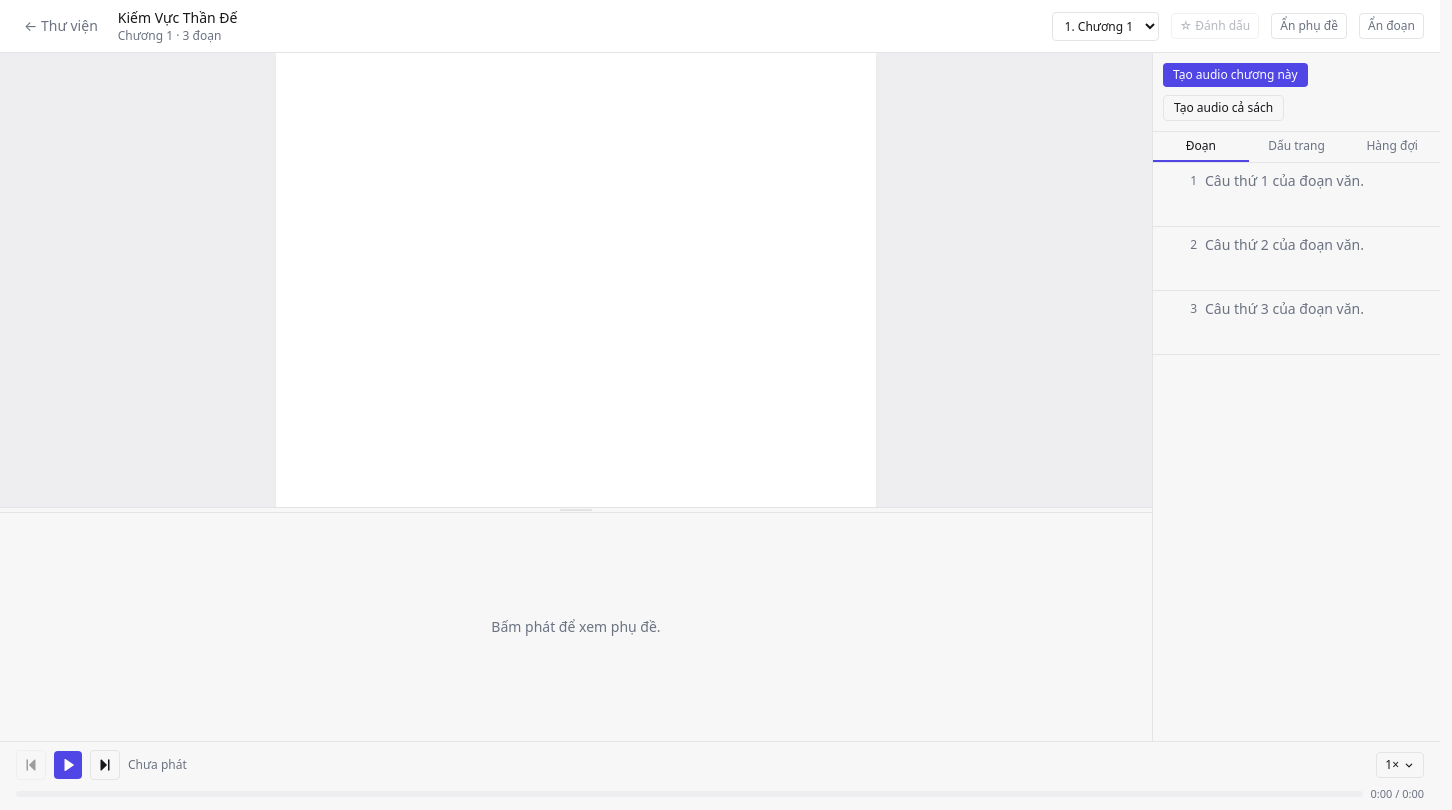
Scenario: panel phải: ba tab (P5.4) › chuyển sang tab Hàng đợi và nạp danh sách job
Click the tab with test id "panel-tab-queue". click: (1392, 147)
box: [1344,132,1440,162]
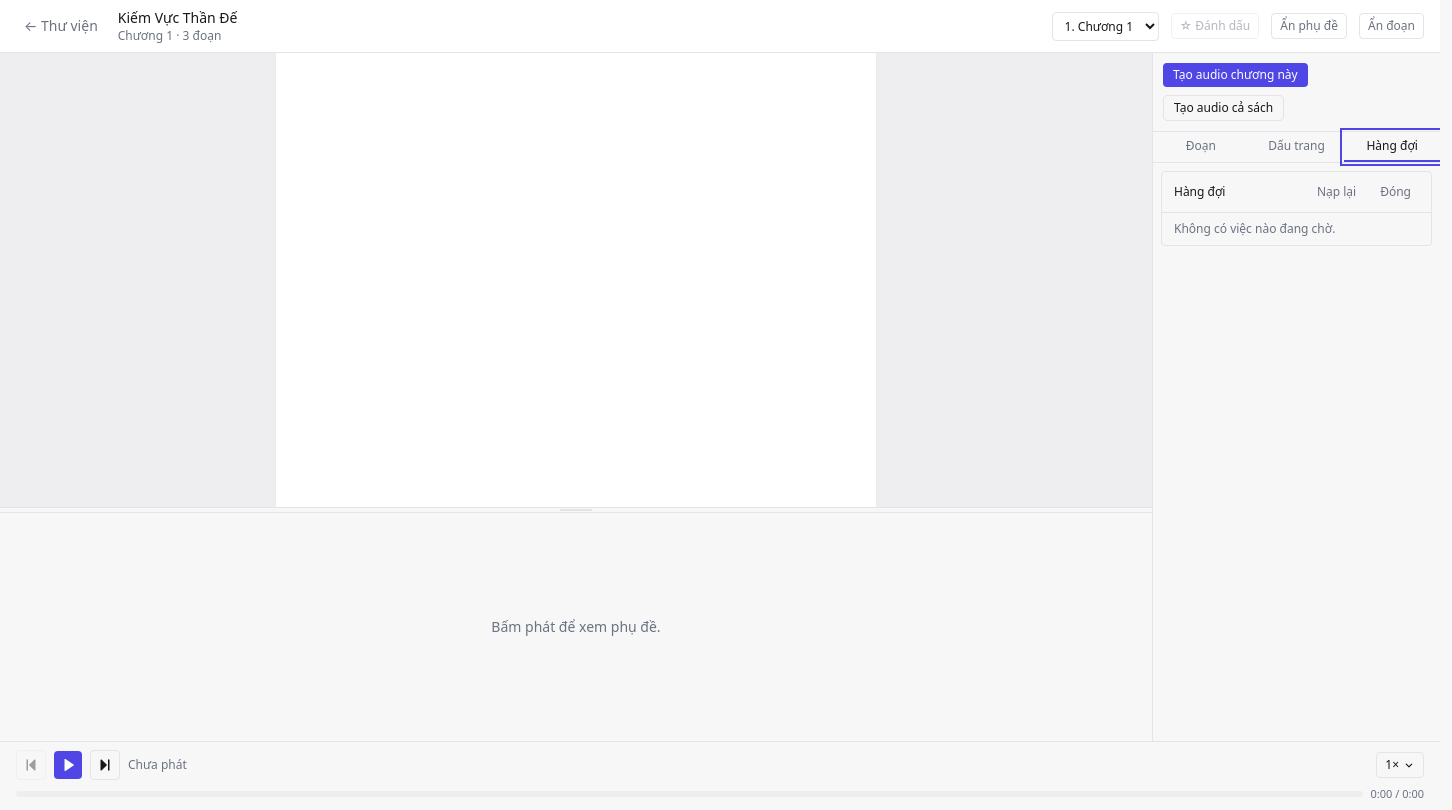
Expected: the element with test id "queue-table" is shown, [1161,171,1432,246]
